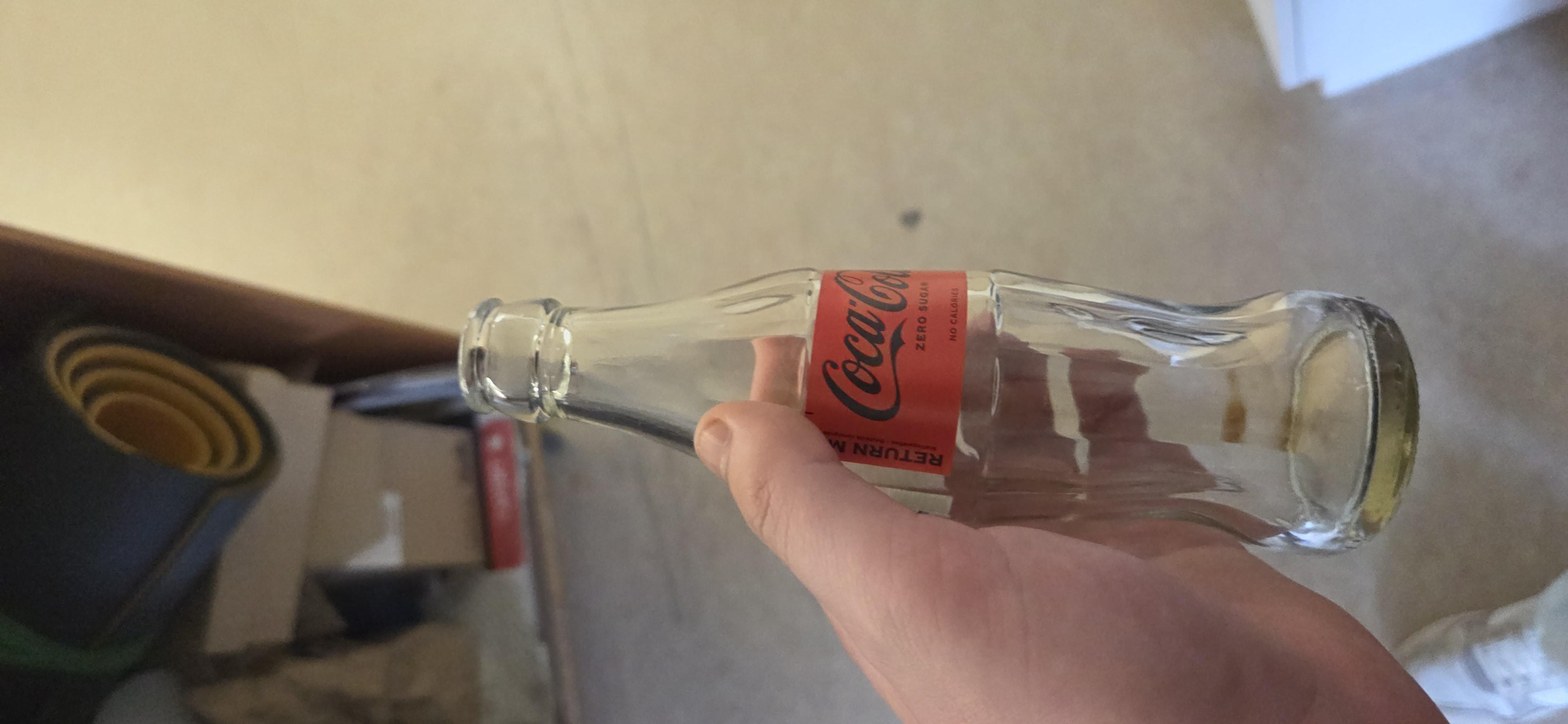Glass: (356, 212, 981, 662)
